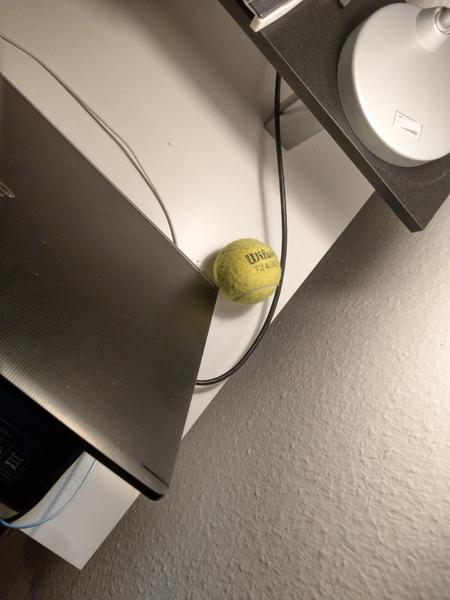Tennisball: (211, 235, 285, 307)
